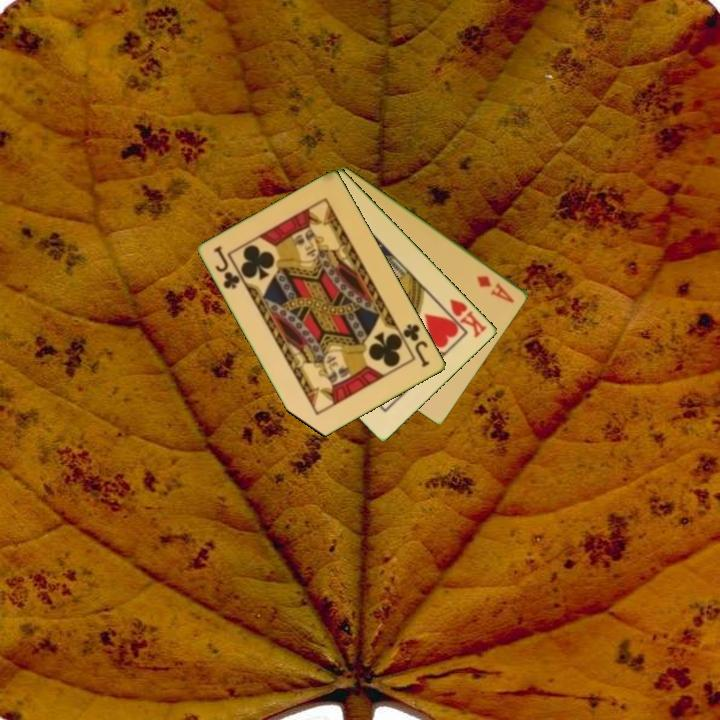Ad: (473, 272, 517, 306)
Jc: (400, 320, 433, 370), (210, 243, 243, 292)
Kh: (438, 295, 490, 341)
